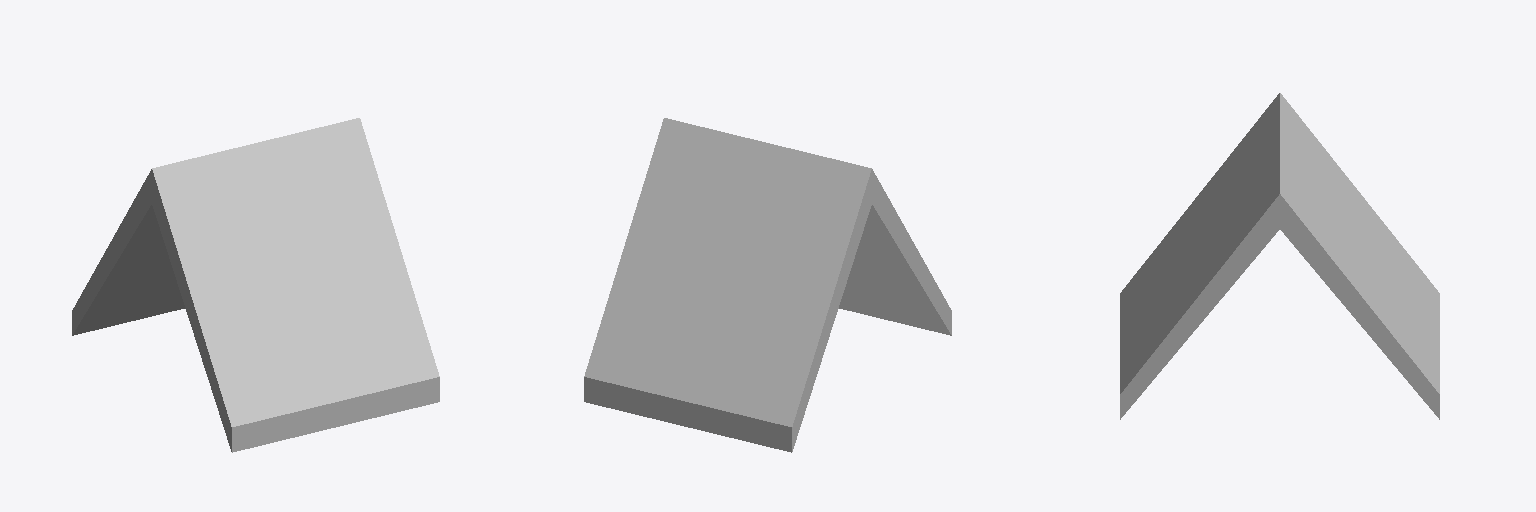
The model's file is roof outer.obj.
3 views of the same model, side by side, from view 1: azimuth 30°, elevation 25°; view 2: azimuth 150°, elevation 25°; view 3: azimuth 270°, elevation 25° (orthographic).
Visible parts, largest first — view 1: roof_outer; view 2: roof_outer; view 3: roof_outer.
Part boxes in pixels (left/top/right/bottom): roof_outer: left=72, top=118, right=439, bottom=452; roof_outer: left=584, top=118, right=951, bottom=452; roof_outer: left=1120, top=93, right=1439, bottom=419.
Bounding box in the file's own units: 63.05 × 65.43 × 83.78.